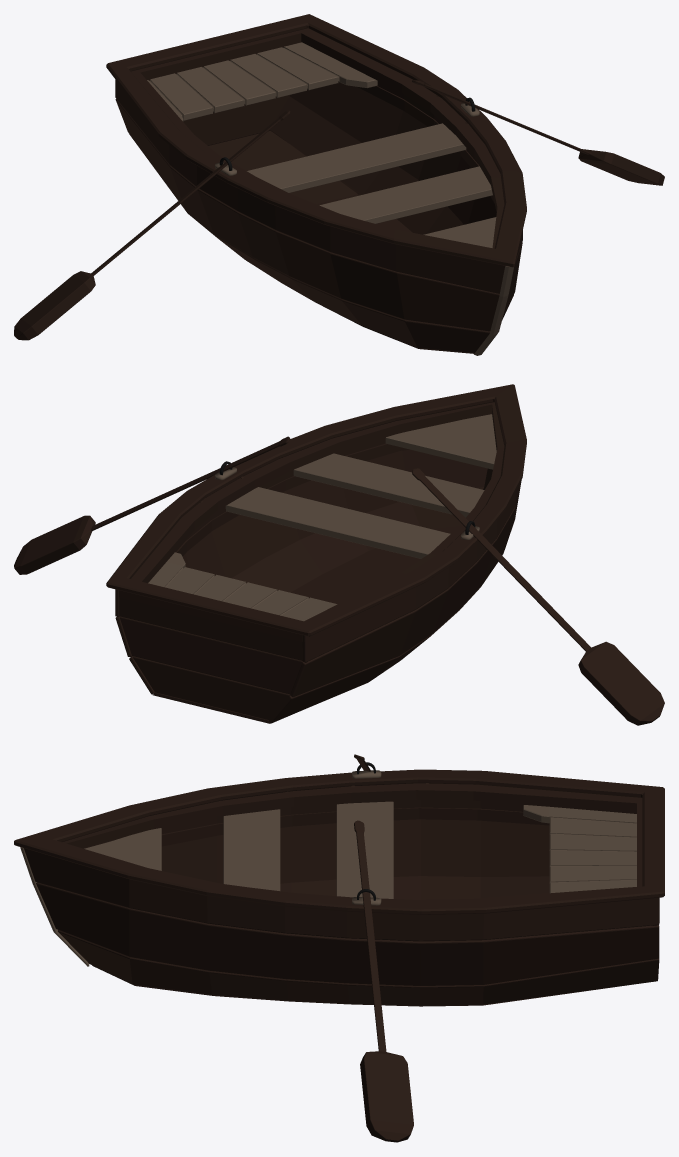
The model's file is boat.fbx.
3 renders of one model, top to bottom at view 1: azimuth 30°, elevation 25°; view 2: azimuth 150°, elevation 25°; view 3: azimuth 270°, elevation 25°, orthographic. The views are drawn at different scales.
Visible parts, largest first — view 1: Boat Main Shape, Boat Top Edge, Boat Main Shape.mid, Boat Main Shape.up, 立方体.003, 立方体, 立方体.005, Boat Main Shape.down, 立方体.001, Boat Main Shape.bottom, 立方体.002, Inner Rim (+1 smaller); view 2: Boat Main Shape, Boat Top Edge, 立方体.005, Boat Main Shape.mid, 立方体, Boat Back Part.002, 立方体.001, Boat Main Shape.up, 立方体.003, Boat Back Part.003, Boat Back Part.001, 立方体.002 (+3 smaller); view 3: Boat Main Shape, Boat Main Shape.mid, Boat Top Edge, Boat Main Shape.up, Boat Main Shape.down, 立方体.003, 立方体.005, 立方体, 立方体.001, Inner Rim, 立方体.002, Boat Main Shape.bottom.
Boxes of the visible parts, x1,y1,x2,y2 form: Boat Main Shape: [131, 28, 504, 248]; Boat Top Edge: [106, 14, 526, 267]; Boat Main Shape.mid: [115, 99, 522, 331]; Boat Main Shape.up: [115, 79, 522, 293]; 立方体.003: [147, 42, 377, 121]; 立方体: [247, 123, 466, 192]; 立方体.005: [14, 80, 664, 340]; Boat Main Shape.down: [129, 130, 513, 352]; 立方体.001: [319, 166, 492, 223]; Boat Main Shape.bottom: [208, 131, 474, 353]; 立方体.002: [423, 217, 496, 247]; Inner Rim: [358, 86, 494, 202]; Boat Main Shape: [119, 402, 504, 641]; Boat Top Edge: [106, 384, 526, 636]; 立方体.005: [14, 436, 664, 725]; Boat Main Shape.mid: [115, 480, 521, 696]; 立方体: [225, 487, 450, 558]; Boat Back Part.002: [117, 616, 307, 694]; 立方体.001: [293, 453, 484, 517]; Boat Main Shape.up: [115, 482, 520, 662]; 立方体.003: [148, 552, 337, 621]; Boat Back Part.003: [131, 656, 290, 719]; Boat Back Part.001: [119, 597, 302, 660]; 立方体.002: [385, 414, 496, 469]; Boat Main Shape: [62, 783, 642, 901]; Boat Main Shape.mid: [36, 882, 659, 985]; Boat Top Edge: [14, 769, 664, 914]; Boat Main Shape.up: [24, 848, 659, 941]; Boat Main Shape.down: [58, 930, 659, 1005]; 立方体.003: [523, 805, 636, 893]; 立方体.005: [354, 754, 413, 1142]; 立方体: [336, 801, 393, 898]; 立方体.001: [223, 809, 280, 890]; Inner Rim: [161, 807, 549, 846]; 立方体.002: [84, 828, 161, 870]; Boat Main Shape.bottom: [92, 965, 626, 1006].
Size of the model in its own units: 845 by 226 by 697.
